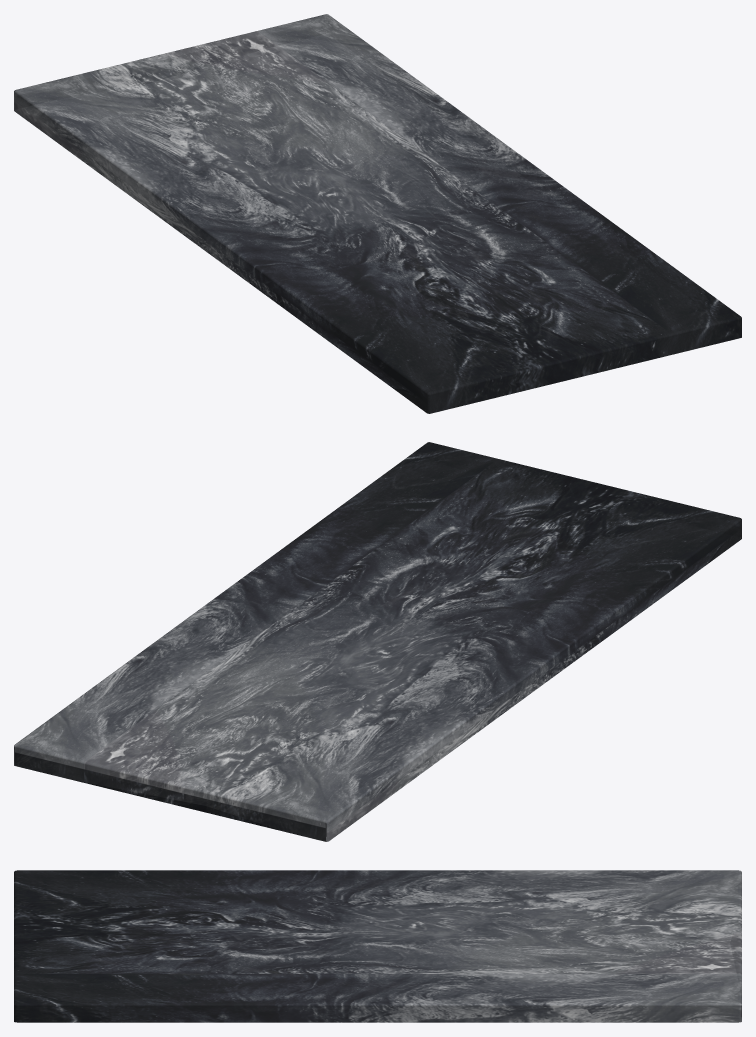
Rendered from epoxy-edited-multi-grey.original.glb.
3 views of the same model, one above another, from view 1: azimuth 30°, elevation 25°; view 2: azimuth 150°, elevation 25°; view 3: azimuth 270°, elevation 25° (orthographic). The views are drawn at different scales.
Visible parts, largest first — view 1: Tabletop; view 2: Tabletop; view 3: Tabletop.
Boxes of the visible parts, bbox=[...] form: Tabletop: bbox=[14, 14, 741, 413]; Tabletop: bbox=[14, 442, 741, 841]; Tabletop: bbox=[14, 870, 741, 1022].
Bounding box in the file's own units: 1.07 × 0.0669 × 2.44.
1 material, 1 textured.
